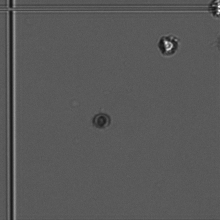Dead Cell: (89, 108, 115, 134)
Living Cell: (154, 30, 185, 61)
